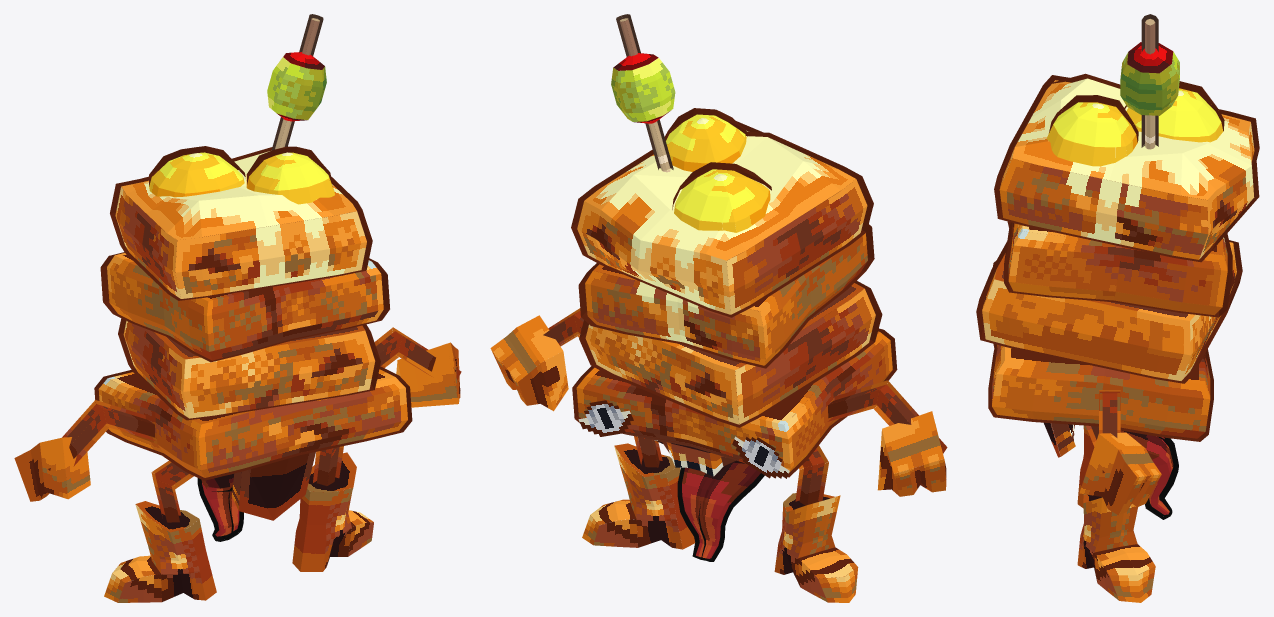
Rendered from bread-monster-model-1a5dd2.glb.
3 renders of one model, left to right at view 1: azimuth 30°, elevation 25°; view 2: azimuth 150°, elevation 25°; view 3: azimuth 270°, elevation 25°, orthographic. The views are drawn at different scales.
Parts seen in each view (by area): view 1: PropMesh; view 2: PropMesh; view 3: PropMesh.
Part boxes in pixels (box(x1,y1,x2,y2)): PropMesh: box(14, 14, 461, 602); PropMesh: box(490, 14, 947, 602); PropMesh: box(976, 14, 1259, 602).
Bounding box in the file's own units: 0.884 × 1 × 0.4569.
1 material, 1 textured.
